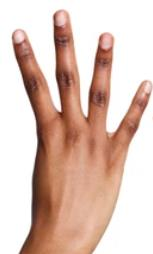right: (9, 6, 152, 234)
